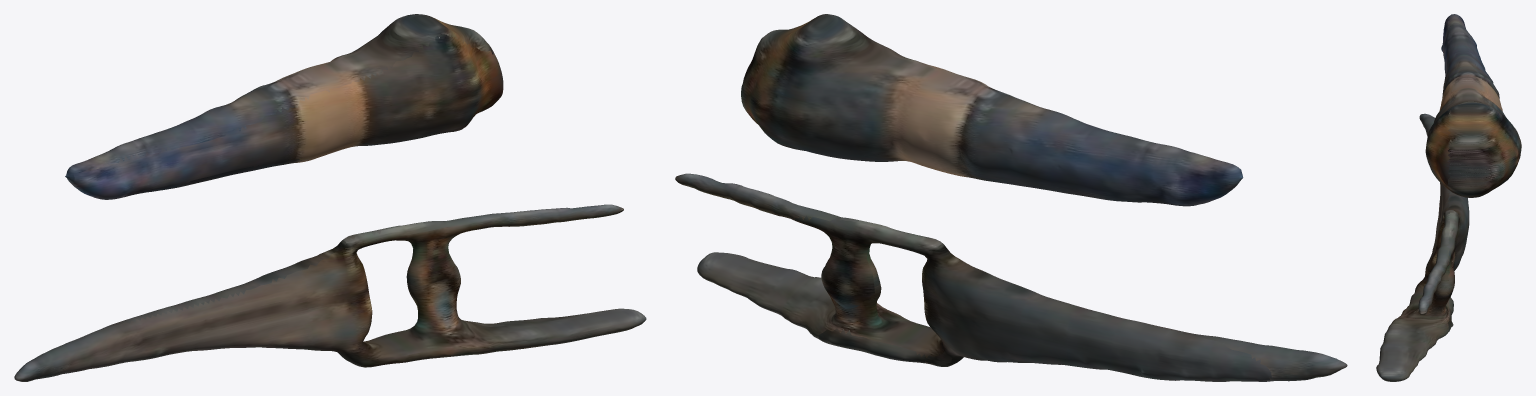
File: kfl-2223.glb
3 renders of one model, left to right at view 1: azimuth 30°, elevation 25°; view 2: azimuth 150°, elevation 25°; view 3: azimuth 270°, elevation 25°, orthographic. The views are drawn at different scales.
Visible parts, largest first — view 1: geometry_0; view 2: geometry_0; view 3: geometry_0.
Boxes of the visible parts, x1,y1,x2,y2 form: geometry_0: (14, 14, 646, 381); geometry_0: (675, 14, 1347, 381); geometry_0: (1376, 14, 1521, 381).
Bounding box in the file's own units: 0.9852 × 0.4758 × 0.2793.
Materials: 1 (1 with a texture image).
